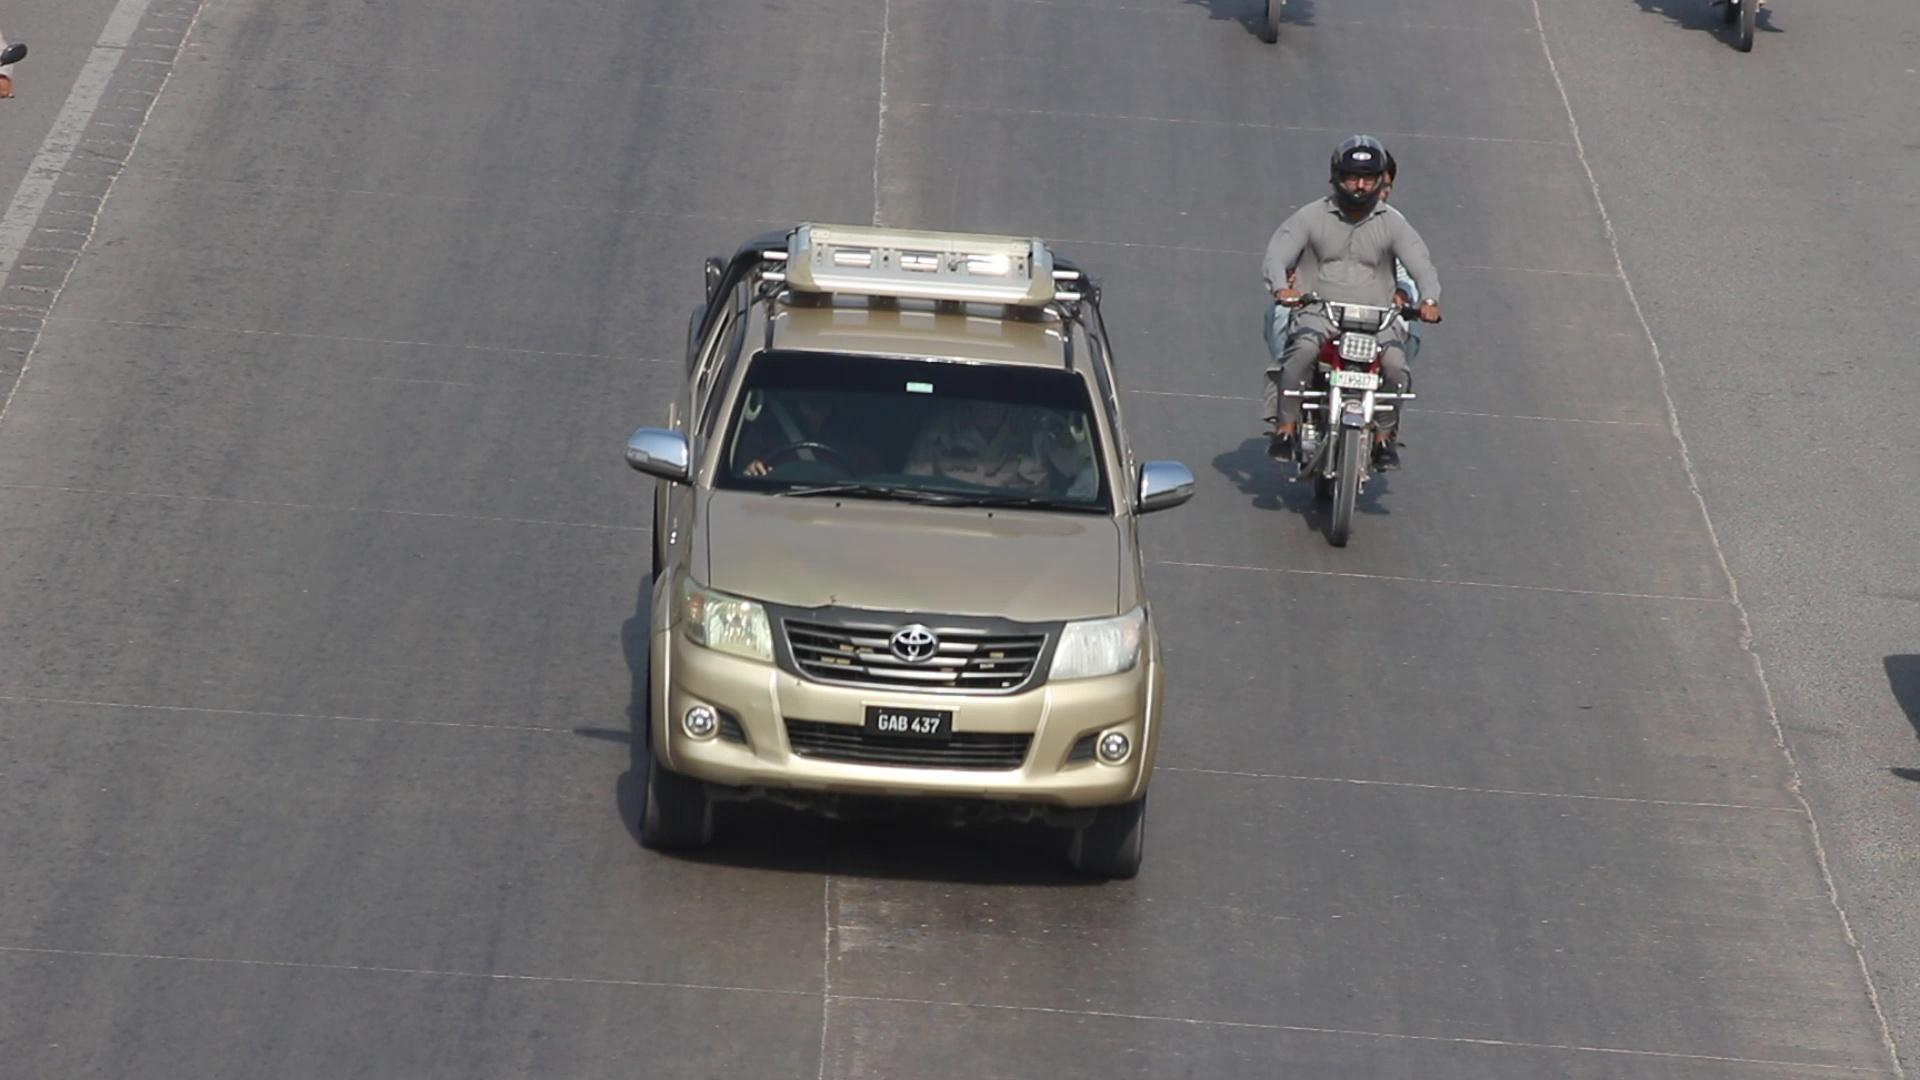windshield: (694, 330, 1130, 526)
